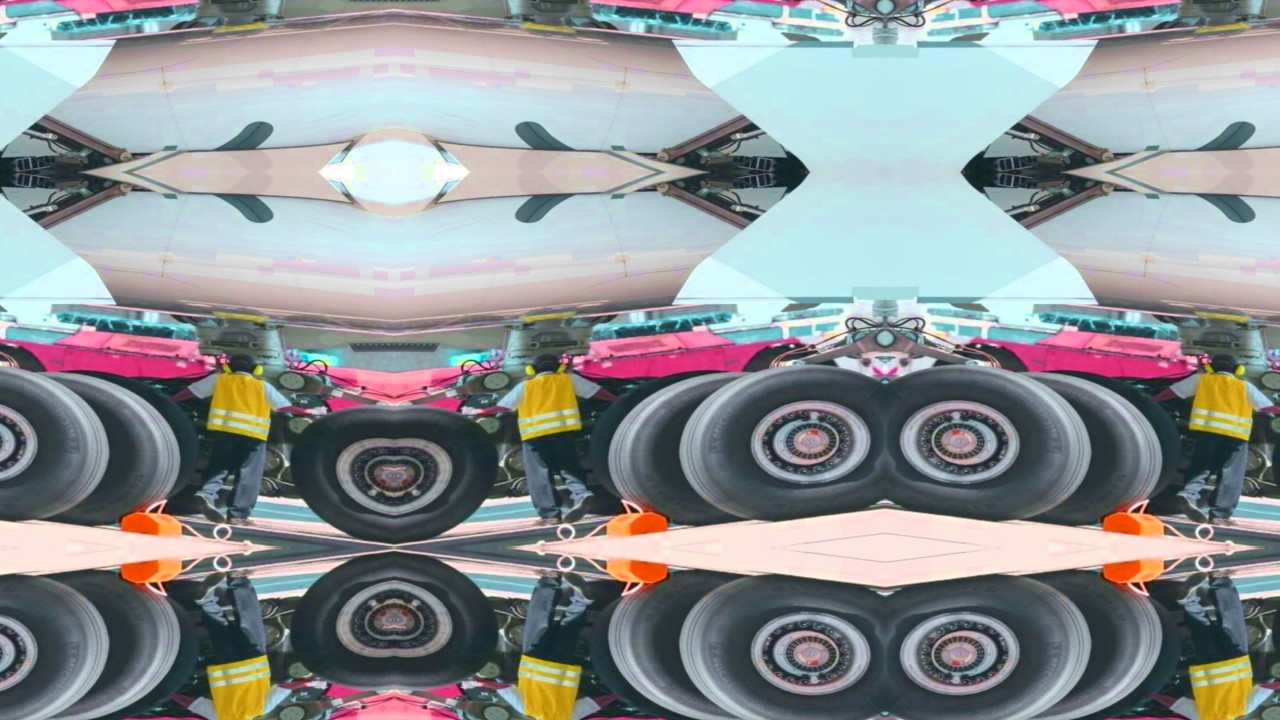chock: (115, 504, 187, 543), (601, 504, 673, 543), (1098, 504, 1170, 543), (115, 553, 187, 592), (601, 553, 673, 592), (1098, 553, 1170, 592)
wheel: (659, 351, 886, 531), (886, 351, 1112, 531), (659, 565, 886, 720), (886, 565, 1112, 720), (590, 366, 795, 536), (976, 366, 1181, 536), (0, 366, 198, 536), (590, 560, 795, 720), (976, 560, 1181, 720), (0, 560, 198, 720), (0, 351, 129, 531), (0, 565, 129, 720), (272, 393, 394, 548), (394, 393, 516, 548), (272, 548, 394, 703), (394, 548, 516, 703), (1255, 393, 1280, 548), (1255, 548, 1280, 703), (738, 341, 824, 377), (947, 341, 1033, 377), (0, 341, 50, 377)
